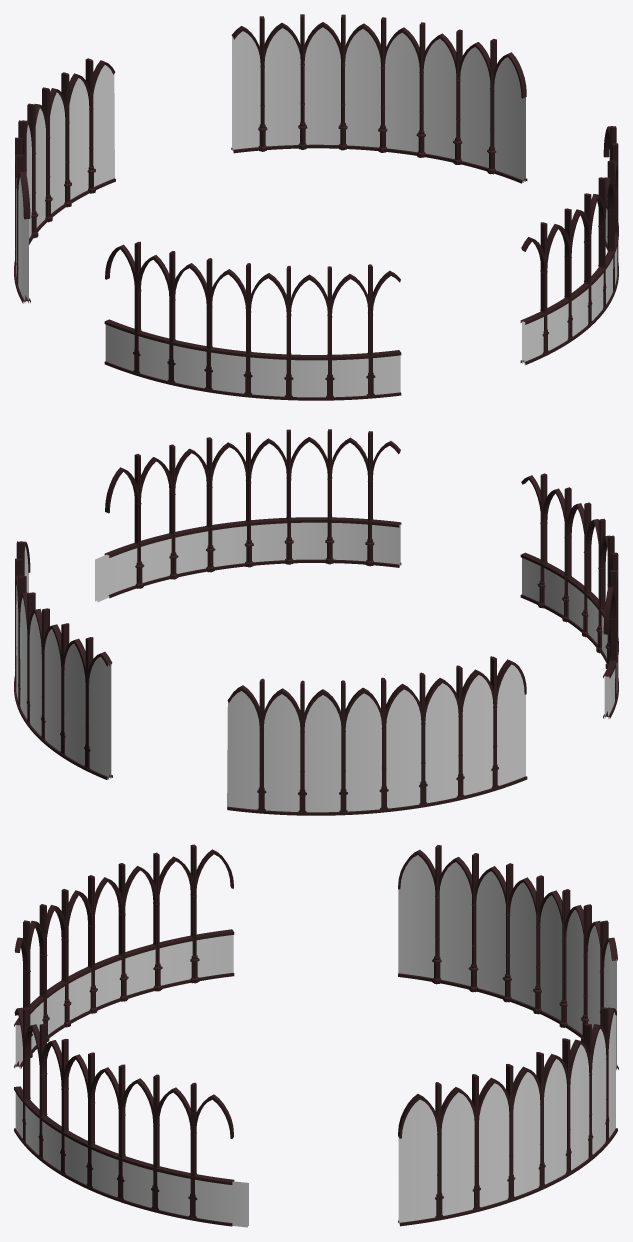
File: Paredes_sala_redonda.fbx
3 views of the same model, one above another, from view 1: azimuth 30°, elevation 25°; view 2: azimuth 150°, elevation 25°; view 3: azimuth 270°, elevation 25° (orthographic). The views are drawn at different scales.
Parts seen in each view (by area): view 1: Paredes_En_Circulo.002, Paredes_Medias_En_Circulo.002, Paredes_En_Circulo.001, Paredes_Medias_En_Circulo.001; view 2: Paredes_En_Circulo.001, Paredes_Medias_En_Circulo.001, Paredes_En_Circulo.002, Paredes_Medias_En_Circulo.002; view 3: Paredes_En_Circulo.002, Paredes_En_Circulo.001, Paredes_Medias_En_Circulo.001, Paredes_Medias_En_Circulo.002.
Boxes of the visible parts, x1,y1,x2,y2 form: Paredes_En_Circulo.002: (231,14,527,183); Paredes_Medias_En_Circulo.002: (104,241,401,400); Paredes_En_Circulo.001: (14,58,115,303); Paredes_Medias_En_Circulo.001: (520,126,618,364); Paredes_En_Circulo.001: (227,656,527,815); Paredes_Medias_En_Circulo.001: (95,429,401,602); Paredes_En_Circulo.002: (14,541,112,779); Paredes_Medias_En_Circulo.002: (520,473,618,718); Paredes_En_Circulo.002: (398,1007,617,1226); Paredes_En_Circulo.001: (398,845,618,1070); Paredes_Medias_En_Circulo.001: (14,1007,248,1227); Paredes_Medias_En_Circulo.002: (14,844,234,1068).
Bounding box in the file's own units: 12125 × 3000 × 12196.
